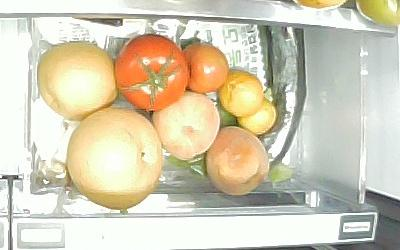peach: (148, 88, 220, 161), (204, 125, 270, 197)
pear: (65, 106, 164, 210), (36, 40, 120, 121)
tangerine: (217, 67, 265, 118), (238, 94, 277, 136)
tomato: (115, 33, 189, 112), (178, 40, 230, 94)
